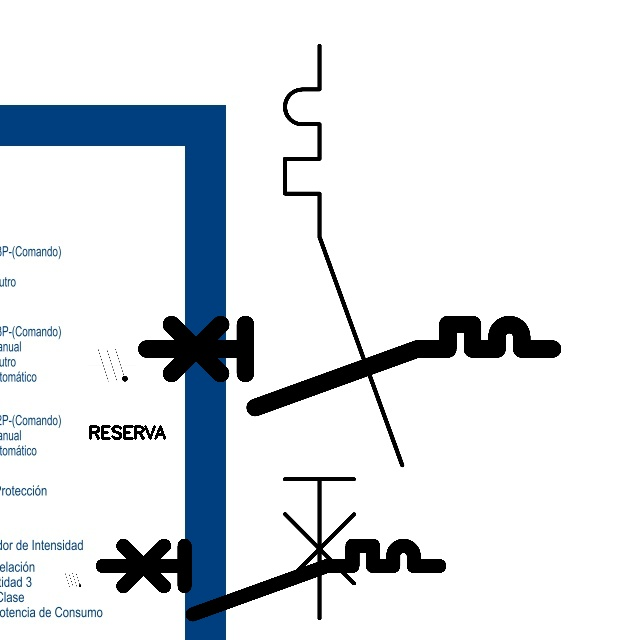interruptor_termomagnetico: (270, 31, 417, 633), (136, 314, 563, 418), (94, 537, 448, 623)
